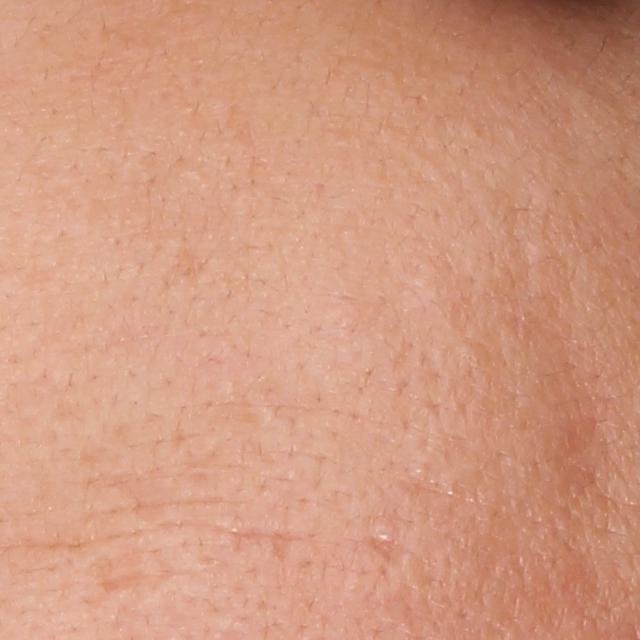atrophic_scar: (155, 241, 216, 298), (83, 547, 150, 594), (370, 534, 409, 568)
